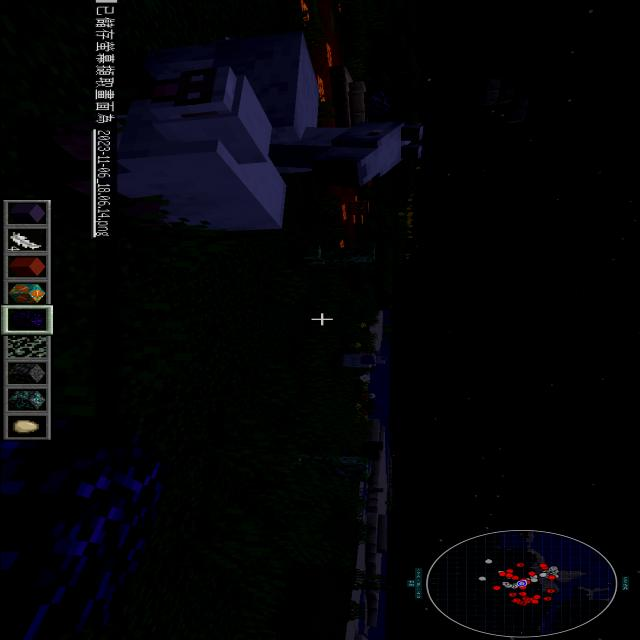Creeper: (273, 450, 372, 484), (301, 243, 377, 267), (365, 486, 384, 494)
Spider: (381, 295, 395, 309)
